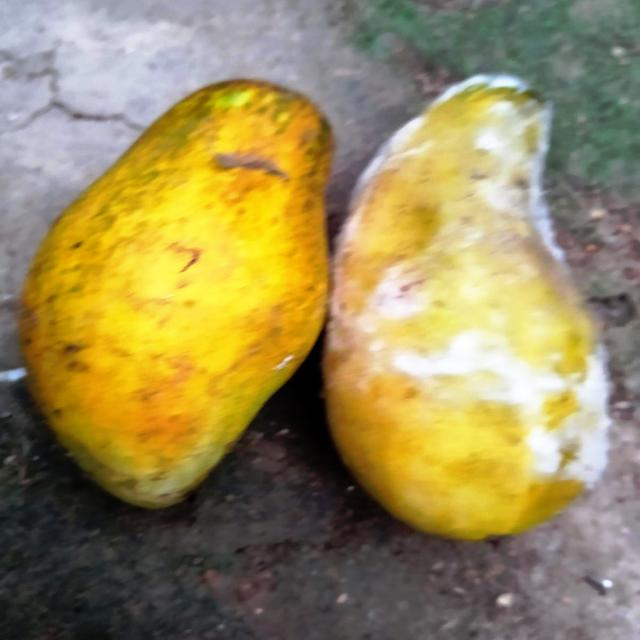Pythium-Fruit-Rot: (330, 70, 617, 490)
